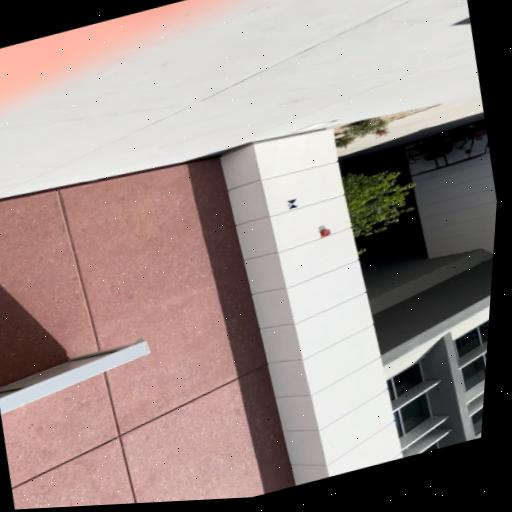target6: (286, 198, 297, 209)
